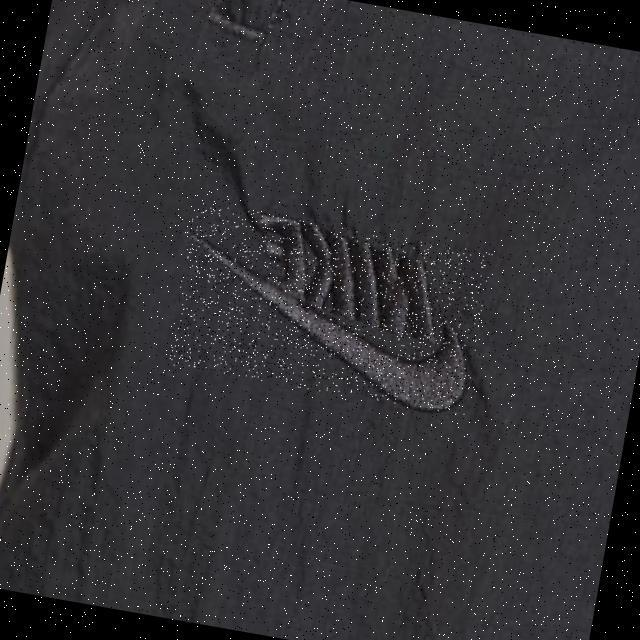Nike: (166, 201, 493, 417)
